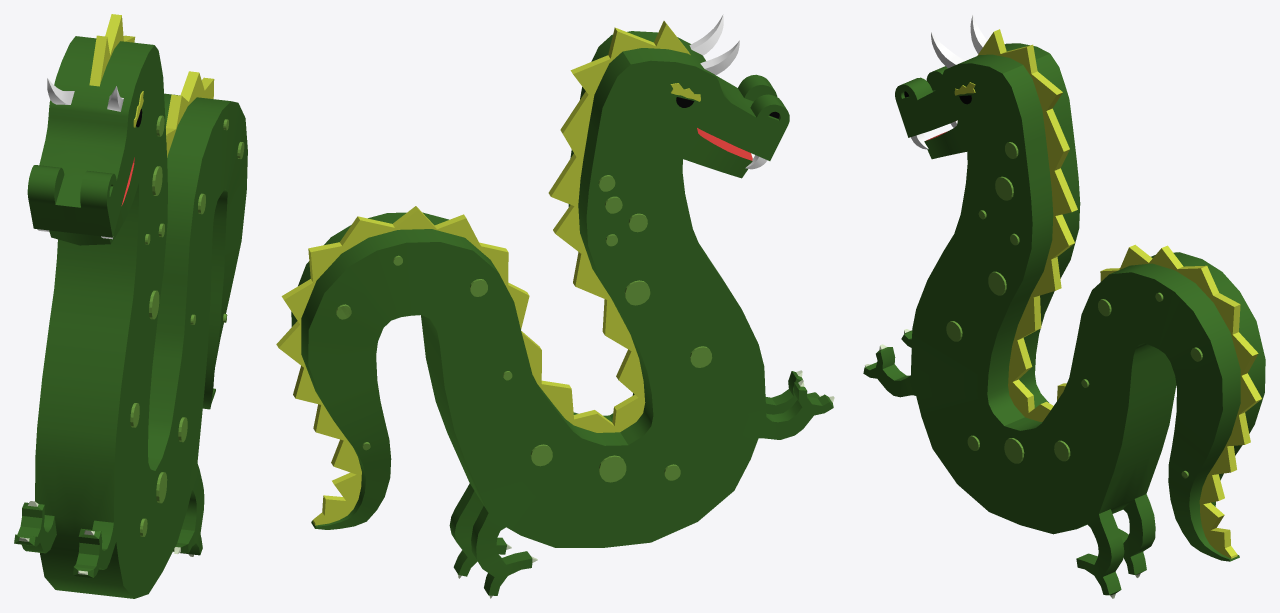
The model's file is dragon.gltf.
3 views of the same model, side by side, from view 1: azimuth 30°, elevation 25°; view 2: azimuth 150°, elevation 25°; view 3: azimuth 270°, elevation 25° (orthographic). The views are drawn at different scales.
Visible parts, largest first — view 1: Cube.091, Cube.119, Plane.163, Cube.122; view 2: Cube.091, Cube.119, Plane.163, Cube.122; view 3: Cube.091, Cube.119, Plane.163, Cube.122.
Boxes of the visible parts, left/top/right/bottom form: Cube.091: left=14, top=36, right=247, bottom=598; Cube.119: left=89, top=14, right=214, bottom=157; Plane.163: left=130, top=115, right=244, bottom=536; Cube.122: left=47, top=78, right=123, bottom=111; Cube.091: left=291, top=31, right=834, bottom=598; Cube.119: left=276, top=21, right=690, bottom=525; Plane.163: left=336, top=175, right=712, bottom=482; Cube.122: left=689, top=14, right=739, bottom=75; Cube.091: left=863, top=43, right=1265, bottom=598; Cube.119: left=977, top=29, right=1261, bottom=558; Plane.163: left=946, top=142, right=1202, bottom=478; Cube.122: left=931, top=14, right=987, bottom=68.
Bounding box in the file's own units: 1.63 × 2.26 × 1.64.
Materials: 1 (1 with a texture image).
